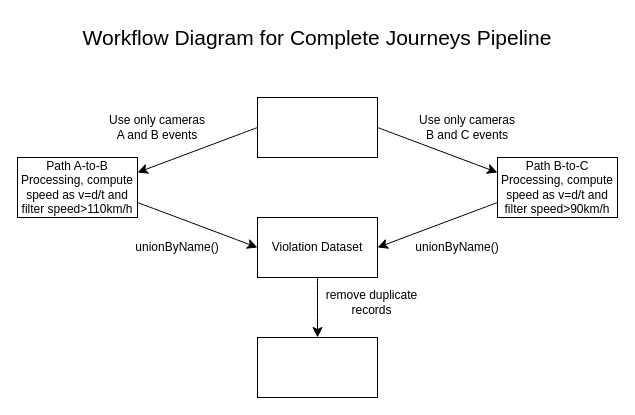
Image size: 635x415. Some labels were removed from this diagram. The centre of each missing label's shape, as x and y in pixels:
Connected Triple-Join Stream: the point at 317,127
Unified Violations Stream: the point at 317,367
